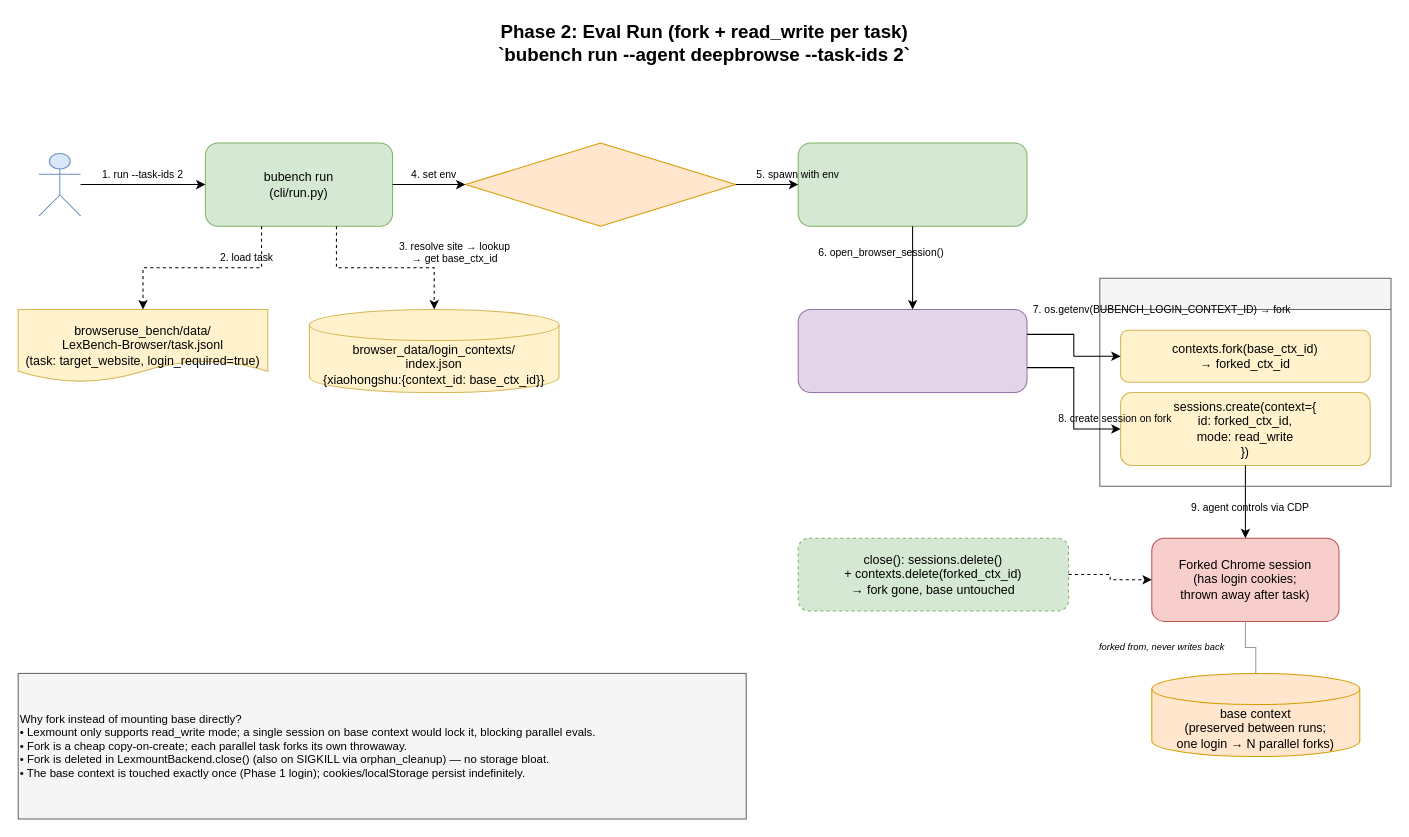
This 1409x837 diagram has some shape labels left out. The box of each missing label's shape, as (x1, y1, x2, y2) in pixels:
Lexmount Cloud: (1099, 277, 1391, 486)
LexmountBackend.open() (browsers/providers/lexmount.py): (797, 308, 1027, 393)
subprocess env BUBENCH_LOGIN_CONTEXT_ID=base_ctx_id: (464, 142, 736, 226)
subprocess: agent_runner.py + Agent (e.g. deepbrowse): (797, 142, 1027, 226)
User (terminal): (38, 152, 81, 216)
